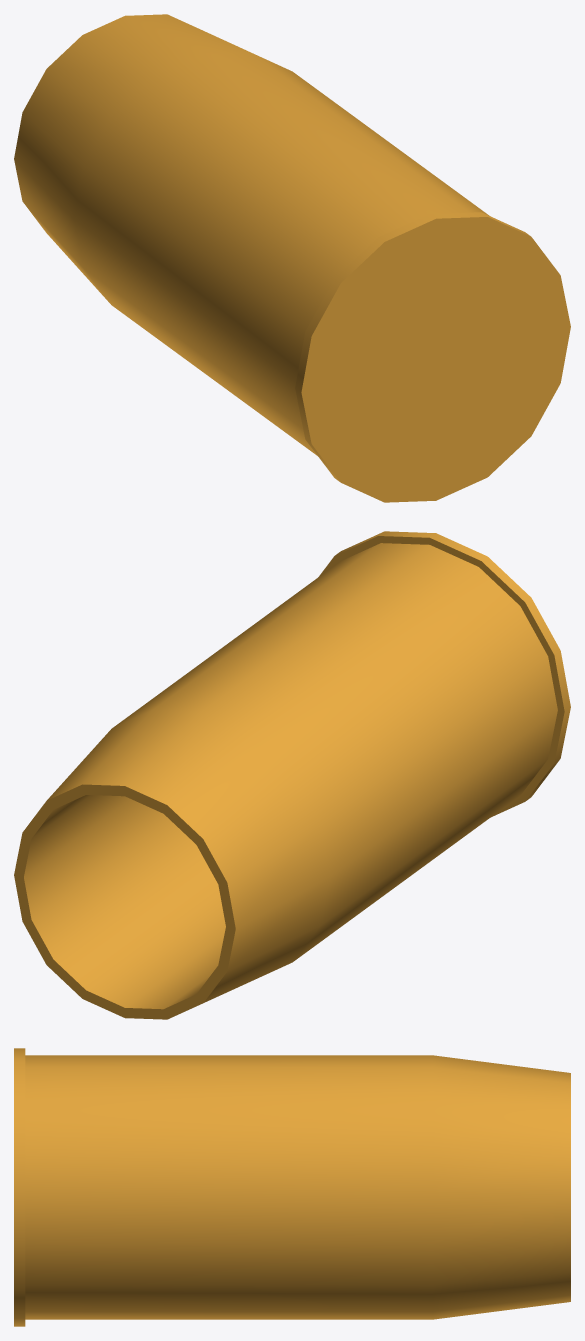
The model's file is 88_empty.fbx.
3 renders of one model, top to bottom at view 1: azimuth 30°, elevation 25°; view 2: azimuth 150°, elevation 25°; view 3: azimuth 270°, elevation 25°, orthographic. The views are drawn at different scales.
Parts seen in each view (by area): view 1: Case; view 2: Case; view 3: Case.
Boxes of the visible parts, x1=… form: Case: x1=14, y1=14, x2=570, y2=502; Case: x1=14, y1=531, x2=570, y2=1019; Case: x1=14, y1=1048, x2=570, y2=1326.
Bounding box in the file's own units: 100 × 100 × 200.
